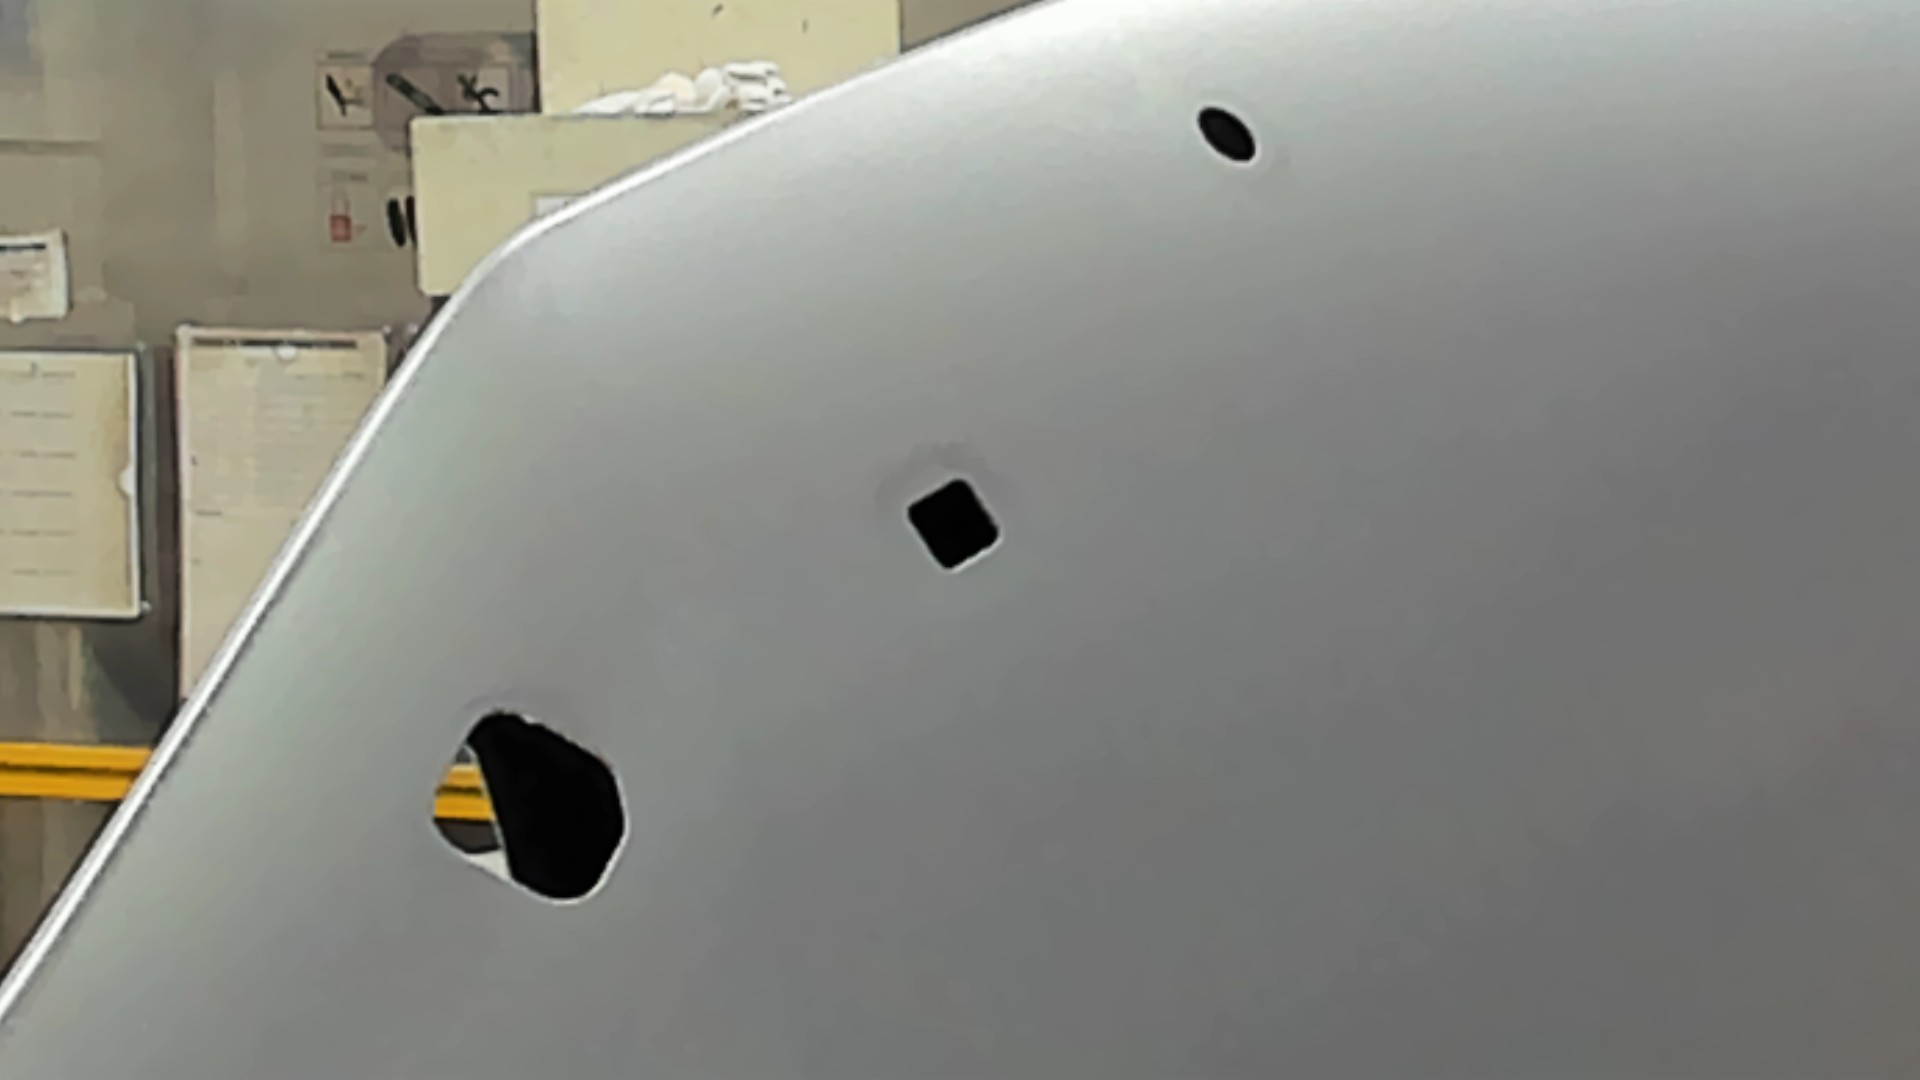capo: (1015, 171, 1920, 1080)
chico: (1193, 100, 1261, 165)
grande: (419, 699, 634, 911)
mediano: (901, 469, 1007, 582)
